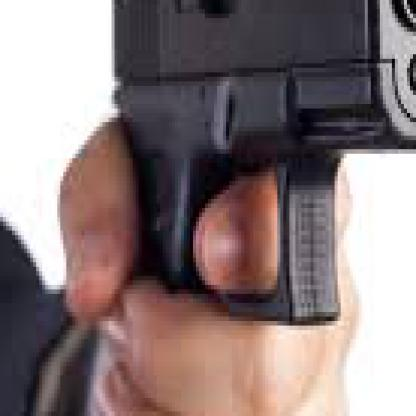gun: (75, 0, 413, 376)
